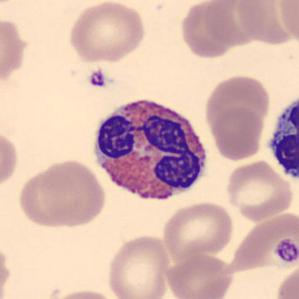Eosinophil: (88, 92, 214, 210)
Lymphocyte: (261, 88, 299, 187)
Platelets: (273, 237, 297, 267), (86, 68, 108, 89)
RBC: (167, 0, 265, 95), (18, 157, 109, 230), (66, 0, 148, 64), (160, 200, 236, 261), (223, 158, 295, 222), (105, 232, 172, 299), (202, 72, 272, 135), (225, 213, 299, 268), (176, 0, 238, 60), (200, 0, 273, 47), (164, 252, 235, 299), (209, 106, 266, 162), (234, 0, 299, 47), (0, 14, 32, 91), (0, 126, 20, 194), (276, 0, 298, 45), (46, 286, 119, 299), (273, 262, 298, 299), (0, 241, 12, 299), (0, 0, 26, 8)
